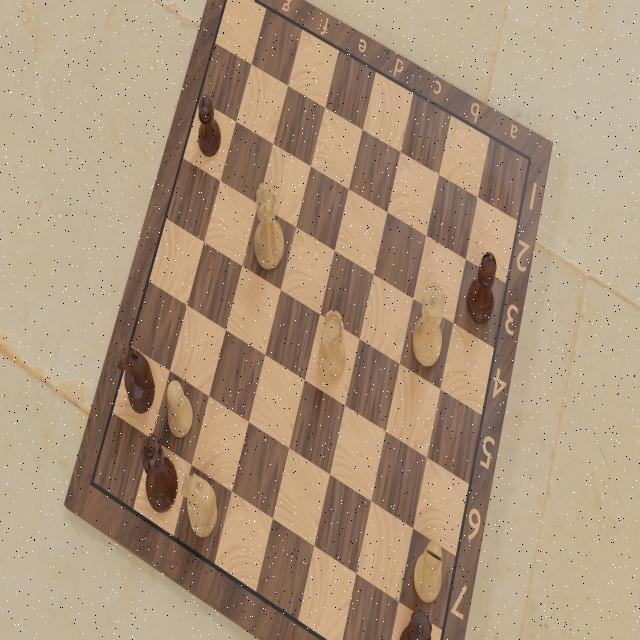black-bishop: (465, 248, 499, 331)
black-king: (142, 435, 178, 518)
black-knight: (118, 342, 157, 418)
black-pawn: (194, 95, 222, 161)
black-queen: (399, 606, 436, 640)
white-king: (251, 181, 285, 274)
white-knight: (181, 463, 218, 541)
white-pawn: (413, 535, 445, 609), (164, 375, 194, 443)
white-queen: (413, 279, 447, 373)
white-rook: (315, 310, 349, 382)
